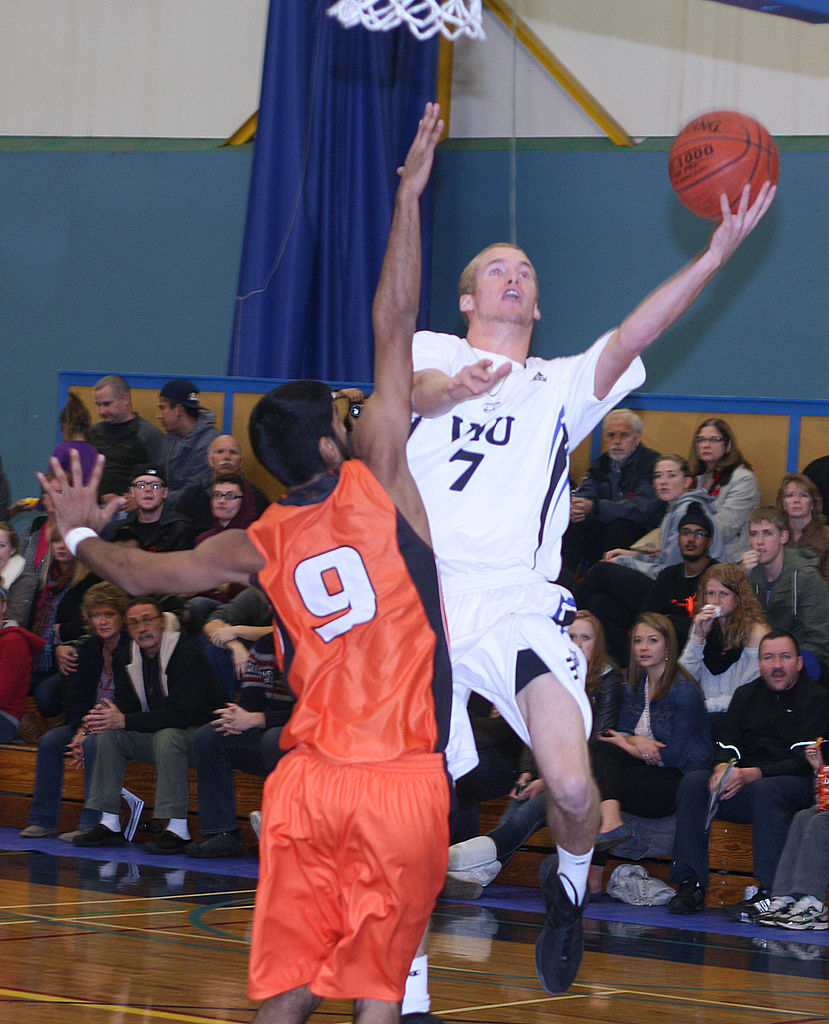Ball: (673, 112, 779, 220)
